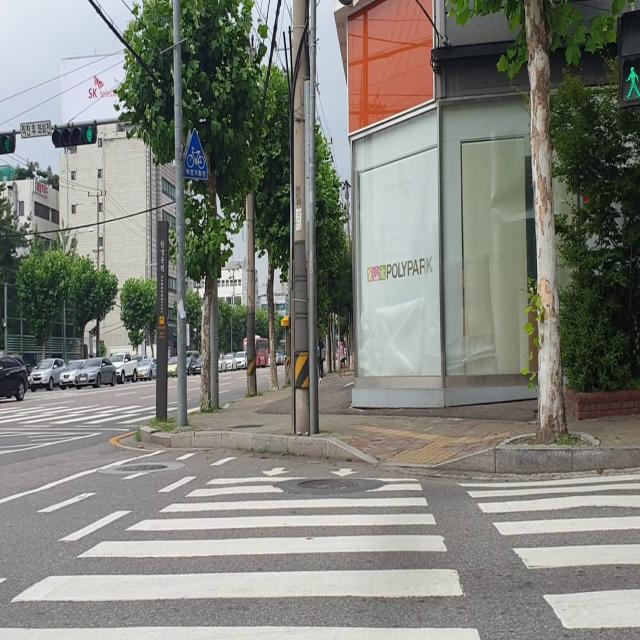횡단보도: (0, 461, 640, 640), (0, 403, 180, 435)
